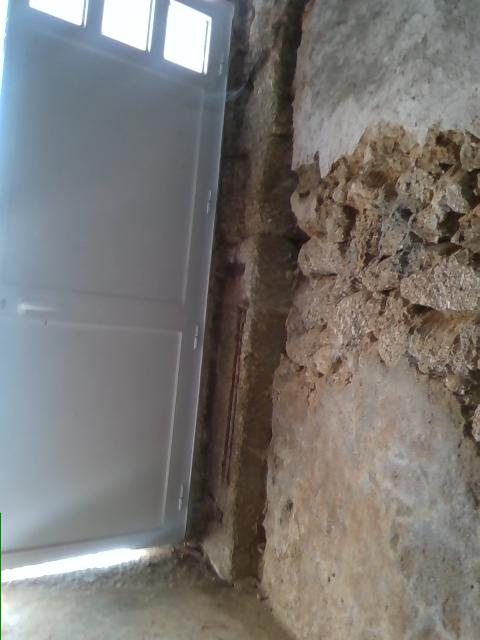door: (0, 5, 236, 571)
